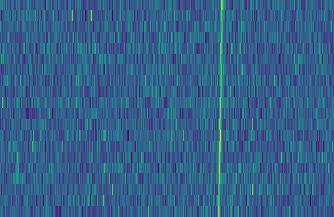signal: (214, 0, 227, 217)
